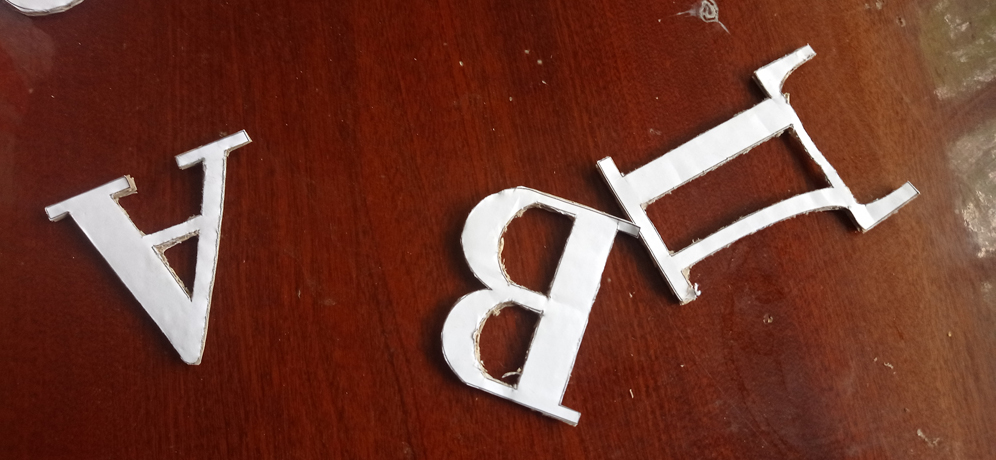a: (42, 128, 254, 367)
d: (597, 44, 920, 306)
v: (439, 185, 641, 428)
